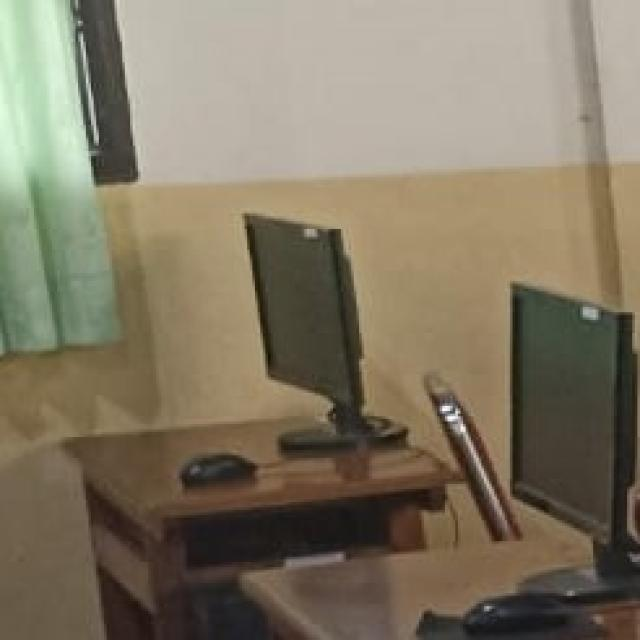offscreen: (513, 286, 616, 534), (247, 215, 363, 433)
